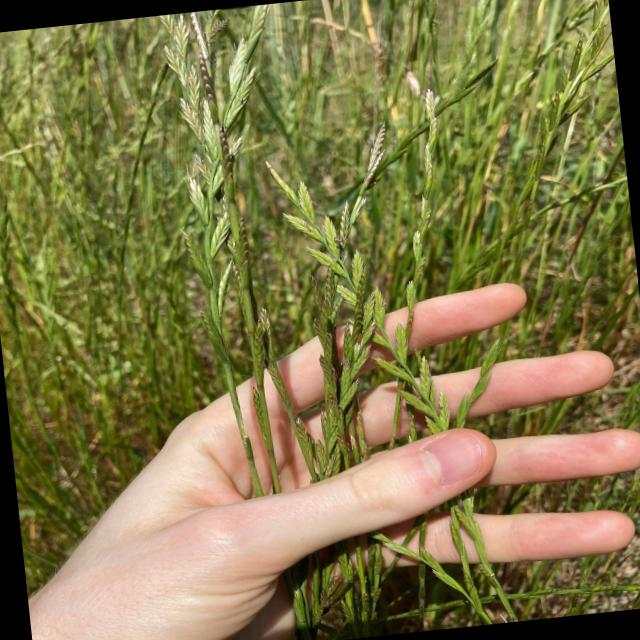Lolium: (266, 142, 509, 618), (282, 89, 489, 561), (260, 122, 433, 626), (161, 4, 318, 503)
